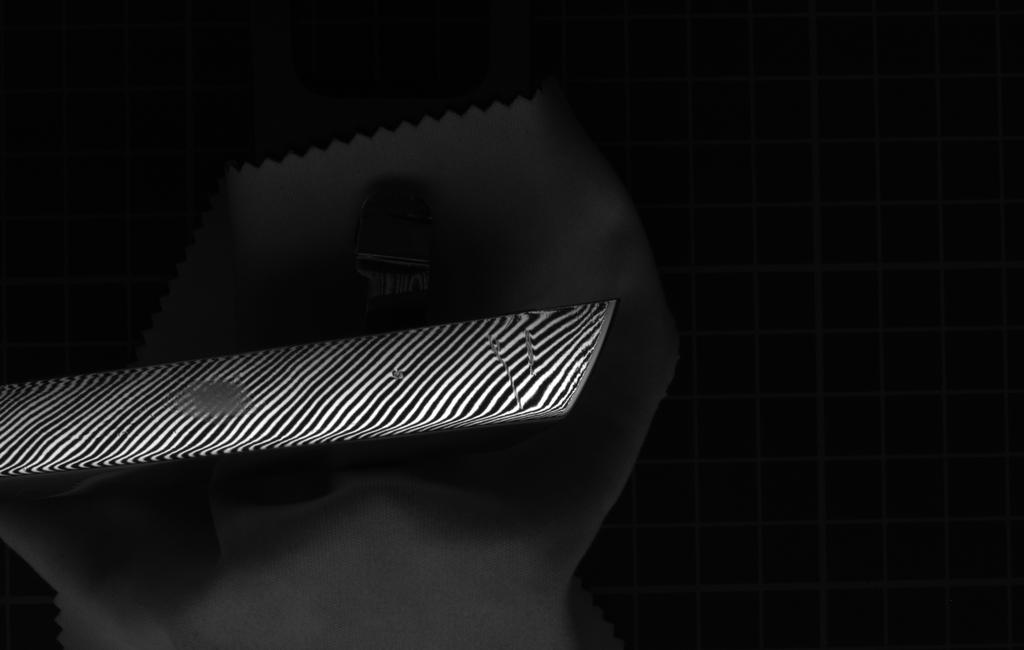Pierced: (387, 366, 411, 386)
Pitting: (170, 377, 267, 425)
Scratch: (477, 325, 530, 422), (515, 323, 548, 388)
